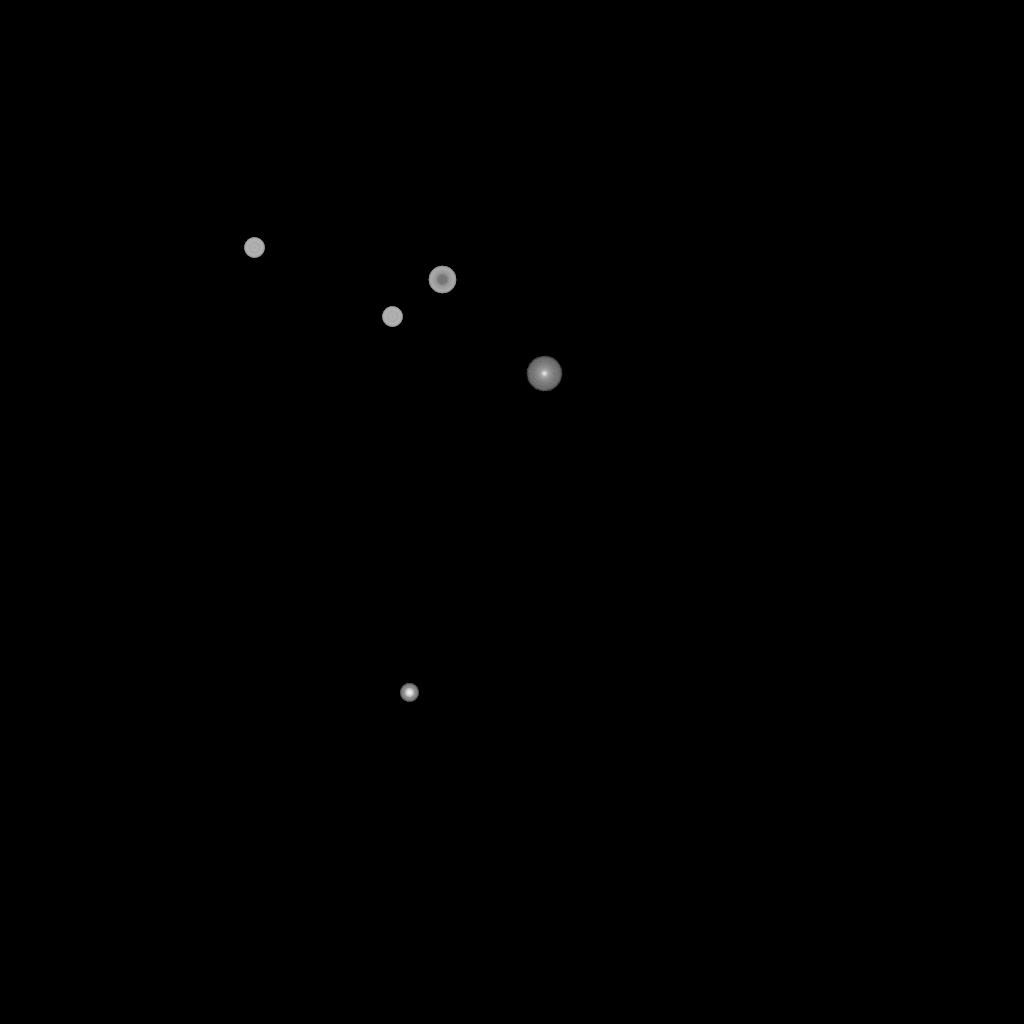depth:-20: (400, 684, 418, 702)
depth:-40: (244, 238, 264, 258), (382, 307, 402, 327)
depth:-50: (428, 266, 456, 294)
depth:0: (526, 356, 562, 392)
